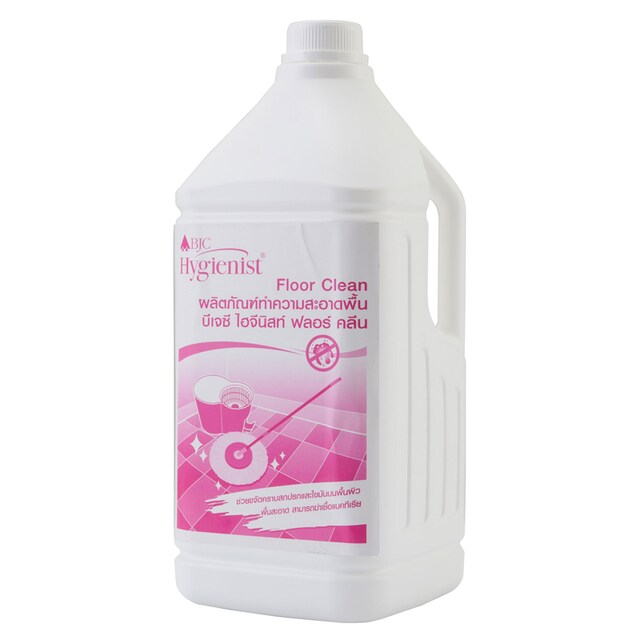Cleaning_solution: (169, 17, 475, 628)
